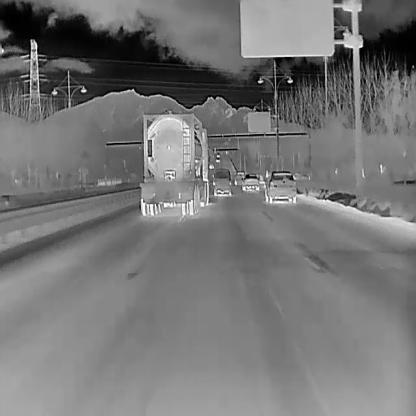car: (139, 112, 208, 215), (263, 170, 296, 203), (211, 167, 232, 196), (241, 172, 259, 190), (234, 170, 245, 185), (215, 157, 220, 162), (215, 152, 220, 157)
